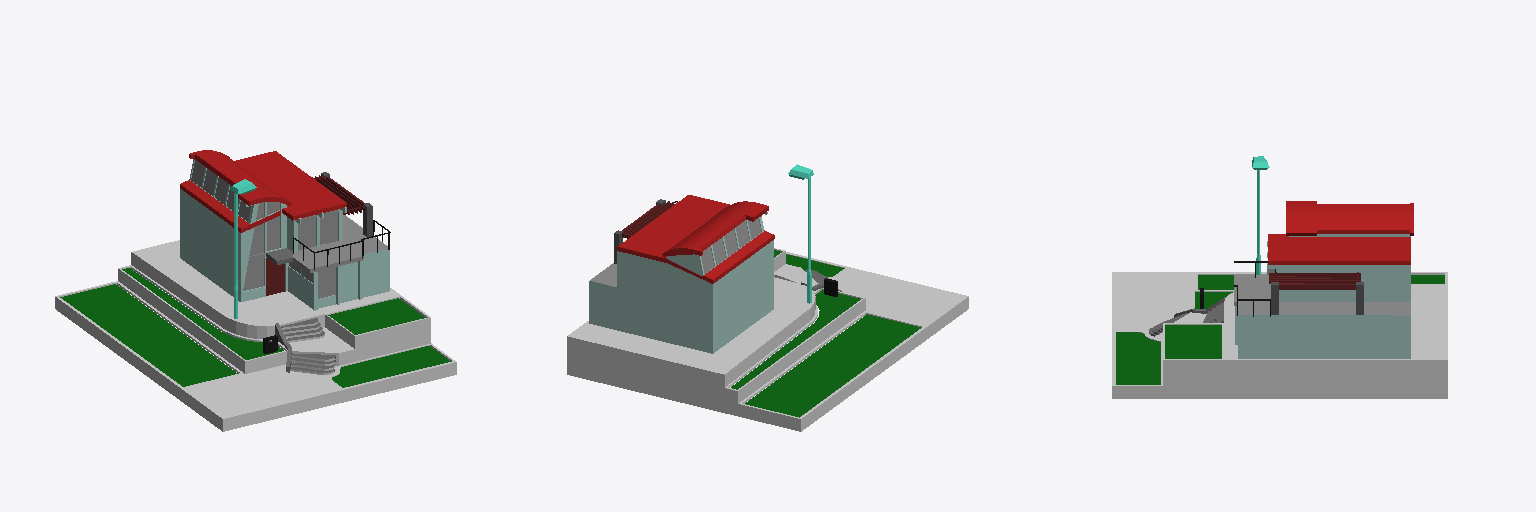
File: dollhouse.obj
3 renders of one model, left to right at view 1: azimuth 30°, elevation 25°; view 2: azimuth 150°, elevation 25°; view 3: azimuth 270°, elevation 25°, orthographic.
Parts seen in each view (by area): view 1: Arch01_03_404, Object01, Patch02, Arch01_03_399, Object07, Arch01_03_400, Arch01_03_405, street_lamp, Arch01_03_401; view 2: Arch01_03_404, Patch02, Object01, Arch01_03_399, Object07, Arch01_03_400, street_lamp; view 3: Arch01_03_404, Patch02, Arch01_03_399, Object07, Object01, street_lamp.
Part boxes in pixels (x1,y1,x2,y2): Arch01_03_404: (55,240,456,431); Object01: (60,268,450,387); Patch02: (180,159,389,301); Arch01_03_399: (180,150,390,273); Object07: (234,151,387,310); Arch01_03_400: (191,160,337,298); Arch01_03_405: (288,262,357,308); street_lamp: (231,179,256,318); Arch01_03_401: (266,258,284,295); Arch01_03_404: (567,248,968,431); Patch02: (589,216,773,353); Object01: (731,250,920,417); Arch01_03_399: (617,201,774,283); Object07: (590,195,729,286); Arch01_03_400: (701,218,761,273); street_lamp: (788,164,813,303); Arch01_03_404: (1112,272,1447,398); Patch02: (1235,234,1410,358); Arch01_03_399: (1234,201,1413,305); Object07: (1238,234,1410,315); Object01: (1116,275,1444,384); street_lamp: (1252,156,1269,274).
Bounding box in the file's own units: 251 × 176 × 312.